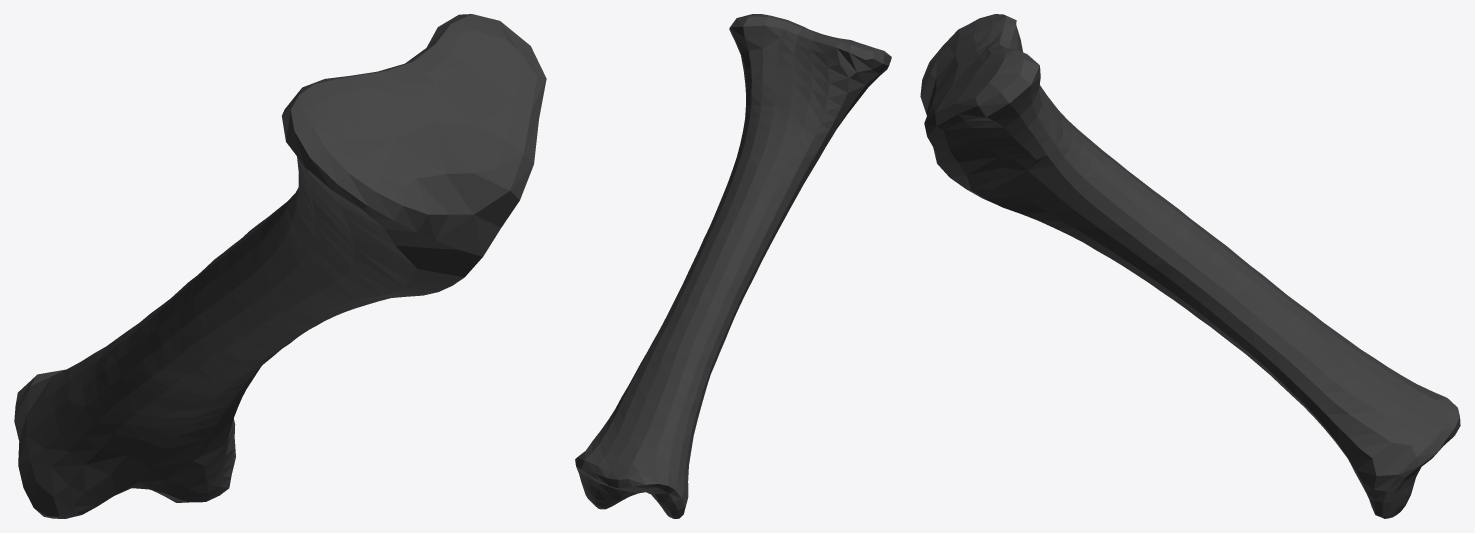
File: LHL_tibia_main.glb
The picture shows the model from 3 angles, left to right: view 1: azimuth 30°, elevation 25°; view 2: azimuth 150°, elevation 25°; view 3: azimuth 270°, elevation 25°; orthographic projection. The views are drawn at different scales.
Visible parts, largest first — view 1: LHL_tibia_main; view 2: LHL_tibia_main; view 3: LHL_tibia_main.
Part boxes in pixels (x1,y1,x2,y2): LHL_tibia_main: (14, 14, 546, 518); LHL_tibia_main: (575, 14, 891, 518); LHL_tibia_main: (920, 14, 1460, 518).
Size of the model in its own units: 19.56 by 49.18 by 52.38.
1 material, 1 textured.
